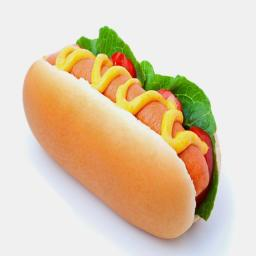hotdog: (20, 24, 222, 242)
